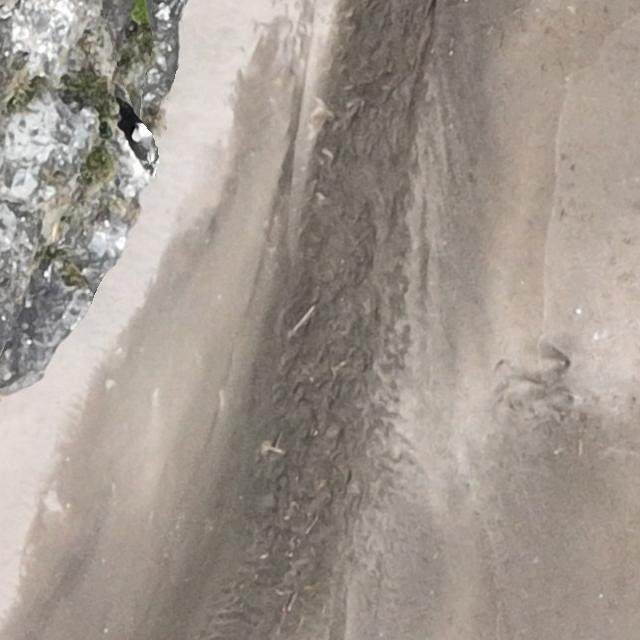umineko: (133, 125, 158, 169)
